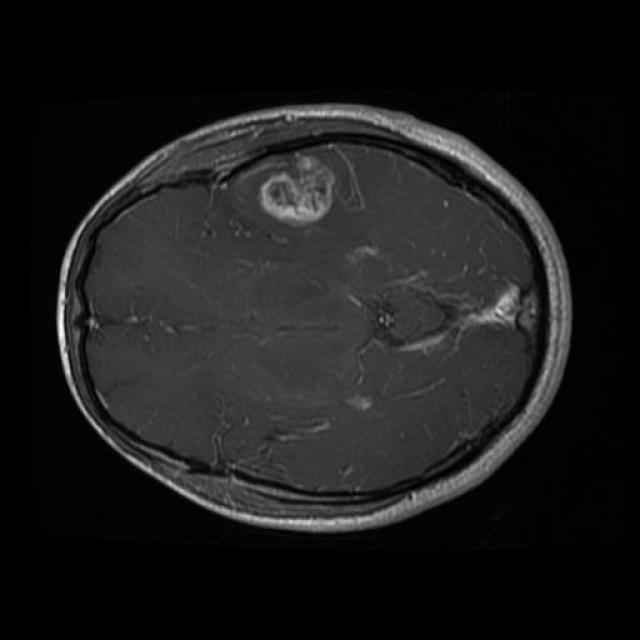Glioma: (258, 154, 335, 226)
